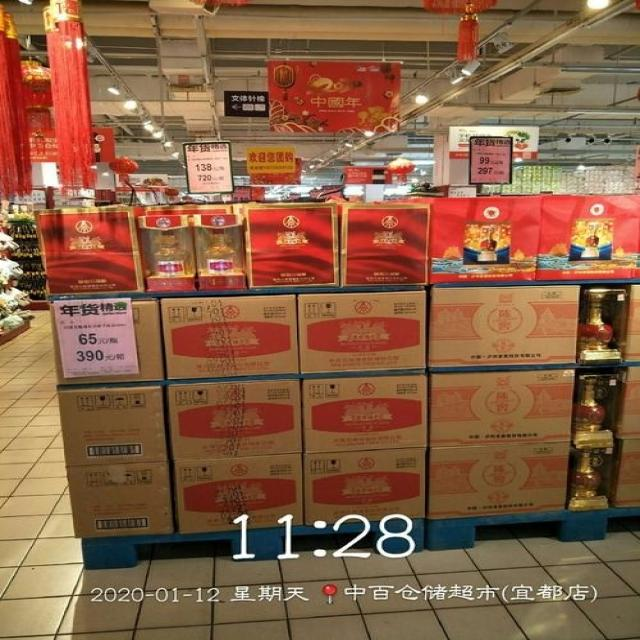box: (426, 285, 579, 368), (159, 294, 300, 380), (427, 368, 574, 448), (163, 379, 303, 460), (426, 441, 570, 519), (296, 290, 427, 374), (169, 453, 303, 534), (50, 299, 167, 385), (301, 374, 428, 453), (303, 447, 428, 523), (58, 385, 169, 467), (66, 460, 174, 539)
